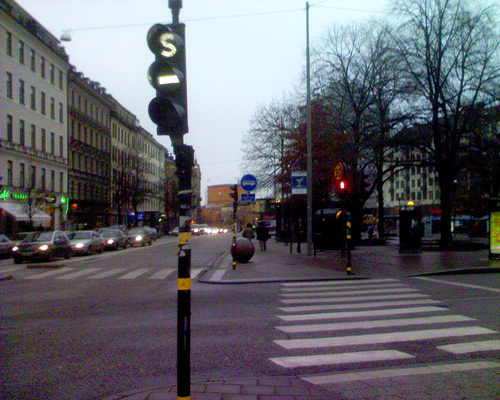Car: (16, 230, 69, 258), (67, 228, 108, 254)
Zebra Crossing: (284, 281, 471, 346), (50, 267, 176, 283)
